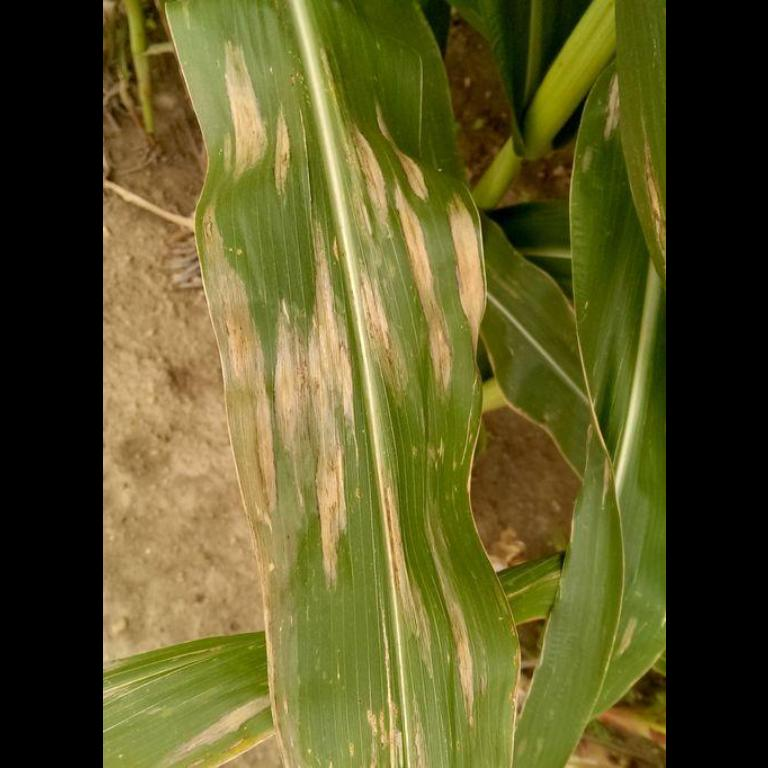blight: (252, 50, 464, 490)
